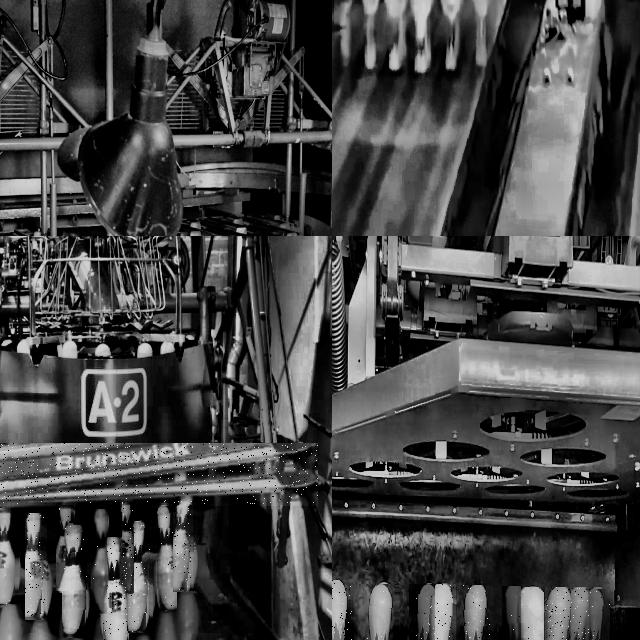bowling-pins: (62, 526, 87, 635), (104, 538, 128, 640), (128, 521, 150, 632), (26, 513, 45, 618), (157, 506, 176, 611), (92, 509, 107, 614), (0, 509, 16, 604), (175, 500, 191, 592), (547, 587, 572, 640), (57, 506, 72, 591), (122, 504, 134, 592), (571, 587, 590, 640), (418, 584, 435, 640), (591, 589, 608, 640), (507, 587, 521, 640)
sweep board: (0, 444, 318, 501)
